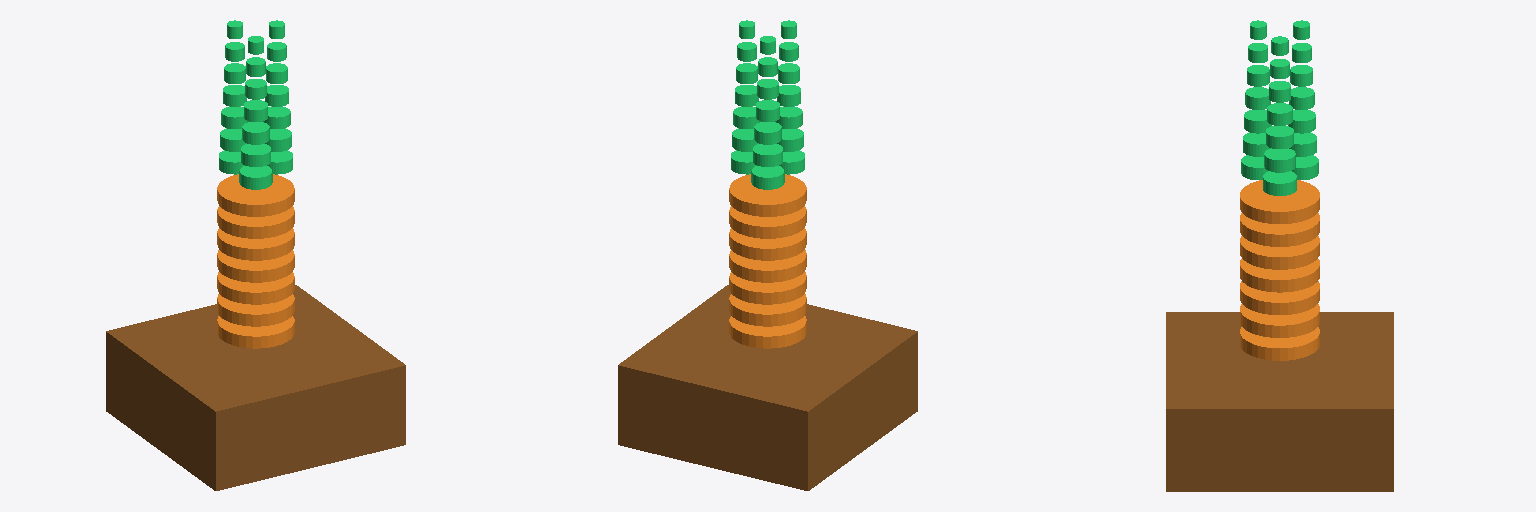
--- Facts derived from the render (not from the file) ---
3 views of the same robot in one strip: view 1: azimuth 30°, elevation 25°; view 2: azimuth 150°, elevation 25°; view 3: azimuth 270°, elevation 25° (orthographic).
Model gripper_robot with 69 links and 68 joints (35 revolute, 33 fixed), rooted at base_link, posed all joints at 0.
Links seen in each view (by area): view 1: base_link, seg7_mid_link, seg2_mid_link, seg4_mid_link, seg1_mid_link, seg5_mid_link, seg6_mid_link, seg3_mid_link, finger3_level1_disc, finger3_level2_disc, finger3_level3_disc; view 2: base_link, seg7_mid_link, seg2_mid_link, seg4_mid_link, seg1_mid_link, seg5_mid_link, seg6_mid_link, seg3_mid_link, finger2_level1_disc, finger2_level2_disc, finger2_level3_disc; view 3: base_link, seg7_mid_link, seg2_mid_link, seg6_mid_link, seg1_mid_link, seg5_mid_link, seg4_mid_link, seg3_mid_link, finger1_level1_disc, finger1_level2_disc, finger1_level3_disc, finger1_level4_disc (+2 smaller).
Boxes of the visible links, left/top/right/bottom form: base_link: left=106, top=285, right=405, bottom=490; seg7_mid_link: left=217, top=174, right=294, bottom=216; seg2_mid_link: left=217, top=294, right=294, bottom=326; seg4_mid_link: left=217, top=250, right=294, bottom=282; seg1_mid_link: left=217, top=316, right=294, bottom=348; seg5_mid_link: left=217, top=228, right=294, bottom=260; seg6_mid_link: left=217, top=206, right=294, bottom=238; seg3_mid_link: left=217, top=272, right=294, bottom=304; finger3_level1_disc: left=239, top=166, right=272, bottom=189; finger3_level2_disc: left=241, top=144, right=270, bottom=166; finger3_level3_disc: left=242, top=122, right=269, bottom=144; base_link: left=618, top=285, right=917, bottom=490; seg7_mid_link: left=729, top=174, right=806, bottom=216; seg2_mid_link: left=729, top=294, right=806, bottom=326; seg4_mid_link: left=729, top=250, right=806, bottom=282; seg1_mid_link: left=729, top=316, right=806, bottom=348; seg5_mid_link: left=729, top=228, right=806, bottom=260; seg6_mid_link: left=729, top=206, right=806, bottom=238; seg3_mid_link: left=729, top=272, right=806, bottom=304; finger2_level1_disc: left=751, top=166, right=784, bottom=189; finger2_level2_disc: left=753, top=144, right=782, bottom=166; finger2_level3_disc: left=754, top=122, right=781, bottom=144; base_link: left=1166, top=312, right=1393, bottom=491; seg7_mid_link: left=1240, top=180, right=1319, bottom=223; seg2_mid_link: left=1240, top=304, right=1319, bottom=337; seg6_mid_link: left=1240, top=213, right=1319, bottom=246; seg1_mid_link: left=1240, top=327, right=1319, bottom=360; seg5_mid_link: left=1240, top=236, right=1319, bottom=269; seg4_mid_link: left=1240, top=259, right=1319, bottom=292; seg3_mid_link: left=1240, top=281, right=1319, bottom=314; finger1_level1_disc: left=1263, top=171, right=1296, bottom=195; finger1_level2_disc: left=1264, top=148, right=1295, bottom=172; finger1_level3_disc: left=1266, top=126, right=1293, bottom=148; finger1_level4_disc: left=1267, top=103, right=1292, bottom=125.
Size in the robot's own frame: 0.2 by 0.2 by 0.4 metres.
Geometry: primitives only (box / cylinder / sphere), no mesh files.

robot.urdf — gripper_robot:
<?xml version="1.0" ?>
<!-- =================================================================================== -->
<!-- |    This document was autogenerated by xacro from gripper_robot.xacro            | -->
<!-- |    EDITING THIS FILE BY HAND IS NOT RECOMMENDED                                 | -->
<!-- =================================================================================== -->
<robot name="gripper_robot">
  <!-- 12mm disc thickness -->
  <!-- ~62% of disc radius = 22mm from center (between 25% and 100%) -->
  <!-- Base Link -->
  <link name="base_link">
    <visual>
      <origin rpy="0 0 0" xyz="0 0 0.04"/>
      <geometry>
        <box size="0.2 0.2 0.08"/>
      </geometry>
      <material name="brown">
        <color rgba="0.6 0.4 0.2 1.0"/>
      </material>
    </visual>
    <collision>
      <origin rpy="0 0 0" xyz="0 0 0.04"/>
      <geometry>
        <box size="0.2 0.2 0.08"/>
      </geometry>
    </collision>
    <inertial>
      <origin rpy="0 0 0" xyz="0 0 0.04"/>
      <mass value="2.0"/>
      <inertia ixx="0.01" ixy="0" ixz="0" iyy="0.01" iyz="0" izz="0.01"/>
    </inertial>
  </link>
  <joint name="base_to_seg1" type="fixed">
    <parent link="base_link"/>
    <child link="seg1_mount"/>
    <origin rpy="0 0 0" xyz="0 0 0.08"/>
  </joint>
  <link name="seg1_mount">
    <inertial>
      <mass value="0.01"/>
      <inertia ixx="0.00001" ixy="0" ixz="0" iyy="0.00001" iyz="0" izz="0.00001"/>
    </inertial>
  </link>
  <!-- Revolute Joint X (Roll) -->
  <joint name="seg1_joint_x" type="revolute">
    <parent link="seg1_mount"/>
    <child link="seg1_x_link"/>
    <origin rpy="0 0 0" xyz="0 0 0"/>
    <axis xyz="1 0 0"/>
    <limit effort="100" lower="-0.2094" upper="0.2094" velocity="1.0"/>
    <dynamics damping="0.7" friction="0.0"/>
  </joint>
  <link name="seg1_x_link">
    <inertial>
      <origin rpy="0 0 0" xyz="0 0 0"/>
      <mass value="0.01"/>
      <inertia ixx="0.00001" ixy="0" ixz="0" iyy="0.00001" iyz="0" izz="0.00001"/>
    </inertial>
  </link>
  <!-- Revolute Joint Y (Pitch) -->
  <joint name="seg1_joint_y" type="revolute">
    <parent link="seg1_x_link"/>
    <child link="seg1_y_link"/>
    <origin rpy="0 0 0" xyz="0 0 0"/>
    <axis xyz="0 1 0"/>
    <limit effort="100" lower="-0.2094" upper="0.2094" velocity="1.0"/>
    <dynamics damping="0.7" friction="0.0"/>
  </joint>
  <link name="seg1_y_link">
    <inertial>
      <origin rpy="0 0 0" xyz="0 0 0"/>
      <mass value="0.01"/>
      <inertia ixx="0.00001" ixy="0" ixz="0" iyy="0.00001" iyz="0" izz="0.00001"/>
    </inertial>
  </link>
  <!-- Fixed H distance joint -->
  <joint name="seg1_fixed_h" type="fixed">
    <parent link="seg1_y_link"/>
    <child link="seg1_mid_link"/>
    <origin rpy="0 0 0" xyz="0 0 0.022"/>
  </joint>
  <!-- Middle link with disc platform -->
  <link name="seg1_mid_link">
    <visual>
      <origin rpy="0 0 0" xyz="0 0 0"/>
      <geometry>
        <cylinder length="0.012" radius="0.0352"/>
      </geometry>
      <material name="disc_1">
        <color rgba="1.0 0.6 0.2 1.0"/>
      </material>
    </visual>
    <collision>
      <origin rpy="0 0 0" xyz="0 0 0"/>
      <geometry>
        <cylinder length="0.012" radius="0.0352"/>
      </geometry>
    </collision>
    <inertial>
      <origin rpy="0 0 0" xyz="0 0 0"/>
      <mass value="0.5"/>
      <inertia ixx="0.002" ixy="0" ixz="0" iyy="0.002" iyz="0" izz="0.003"/>
    </inertial>
  </link>
  <!-- Revolute Joint X (Roll) -->
  <joint name="seg2_joint_x" type="revolute">
    <parent link="seg1_mid_link"/>
    <child link="seg2_x_link"/>
    <origin rpy="0 0 0" xyz="0 0 0"/>
    <axis xyz="1 0 0"/>
    <limit effort="100" lower="-0.2094" upper="0.2094" velocity="1.0"/>
    <mimic joint="seg1_joint_x" multiplier="1.0" offset="0.0"/>
    <dynamics damping="0.1" friction="0.0"/>
  </joint>
  <link name="seg2_x_link">
    <inertial>
      <origin rpy="0 0 0" xyz="0 0 0"/>
      <mass value="0.01"/>
      <inertia ixx="0.00001" ixy="0" ixz="0" iyy="0.00001" iyz="0" izz="0.00001"/>
    </inertial>
  </link>
  <!-- Revolute Joint Y (Pitch) -->
  <joint name="seg2_joint_y" type="revolute">
    <parent link="seg2_x_link"/>
    <child link="seg2_y_link"/>
    <origin rpy="0 0 0" xyz="0 0 0"/>
    <axis xyz="0 1 0"/>
    <limit effort="100" lower="-0.2094" upper="0.2094" velocity="1.0"/>
    <mimic joint="seg1_joint_y" multiplier="1.0" offset="0.0"/>
    <dynamics damping="0.1" friction="0.0"/>
  </joint>
  <link name="seg2_y_link">
    <inertial>
      <origin rpy="0 0 0" xyz="0 0 0"/>
      <mass value="0.01"/>
      <inertia ixx="0.00001" ixy="0" ixz="0" iyy="0.00001" iyz="0" izz="0.00001"/>
    </inertial>
  </link>
  <!-- Fixed H distance joint -->
  <joint name="seg2_fixed_h" type="fixed">
    <parent link="seg2_y_link"/>
    <child link="seg2_mid_link"/>
    <origin rpy="0 0 0" xyz="0 0 0.022"/>
  </joint>
  <!-- Middle link with disc platform -->
  <link name="seg2_mid_link">
    <visual>
      <origin rpy="0 0 0" xyz="0 0 0"/>
      <geometry>
        <cylinder length="0.012" radius="0.0352"/>
      </geometry>
      <material name="disc_2">
        <color rgba="1.0 0.6 0.2 1.0"/>
      </material>
    </visual>
    <collision>
      <origin rpy="0 0 0" xyz="0 0 0"/>
      <geometry>
        <cylinder length="0.012" radius="0.0352"/>
      </geometry>
    </collision>
    <inertial>
      <origin rpy="0 0 0" xyz="0 0 0"/>
      <mass value="0.5"/>
      <inertia ixx="0.002" ixy="0" ixz="0" iyy="0.002" iyz="0" izz="0.003"/>
    </inertial>
  </link>
  <!-- Revolute Joint X (Roll) -->
  <joint name="seg3_joint_x" type="revolute">
    <parent link="seg2_mid_link"/>
    <child link="seg3_x_link"/>
    <origin rpy="0 0 0" xyz="0 0 0"/>
    <axis xyz="1 0 0"/>
    <limit effort="100" lower="-0.2094" upper="0.2094" velocity="1.0"/>
    <mimic joint="seg1_joint_x" multiplier="1.0" offset="0.0"/>
    <dynamics damping="0.1" friction="0.0"/>
  </joint>
  <link name="seg3_x_link">
    <inertial>
      <origin rpy="0 0 0" xyz="0 0 0"/>
      <mass value="0.01"/>
      <inertia ixx="0.00001" ixy="0" ixz="0" iyy="0.00001" iyz="0" izz="0.00001"/>
    </inertial>
  </link>
  <!-- Revolute Joint Y (Pitch) -->
  <joint name="seg3_joint_y" type="revolute">
    <parent link="seg3_x_link"/>
    <child link="seg3_y_link"/>
    <origin rpy="0 0 0" xyz="0 0 0"/>
    <axis xyz="0 1 0"/>
    <limit effort="100" lower="-0.2094" upper="0.2094" velocity="1.0"/>
    <mimic joint="seg1_joint_y" multiplier="1.0" offset="0.0"/>
    <dynamics damping="0.1" friction="0.0"/>
  </joint>
  <link name="seg3_y_link">
    <inertial>
      <origin rpy="0 0 0" xyz="0 0 0"/>
      <mass value="0.01"/>
      <inertia ixx="0.00001" ixy="0" ixz="0" iyy="0.00001" iyz="0" izz="0.00001"/>
    </inertial>
  </link>
  <!-- Fixed H distance joint -->
  <joint name="seg3_fixed_h" type="fixed">
    <parent link="seg3_y_link"/>
    <child link="seg3_mid_link"/>
    <origin rpy="0 0 0" xyz="0 0 0.022"/>
  </joint>
  <!-- Middle link with disc platform -->
  <link name="seg3_mid_link">
    <visual>
      <origin rpy="0 0 0" xyz="0 0 0"/>
      <geometry>
        <cylinder length="0.012" radius="0.0352"/>
      </geometry>
      <material name="disc_3">
        <color rgba="1.0 0.6 0.2 1.0"/>
      </material>
    </visual>
    <collision>
      <origin rpy="0 0 0" xyz="0 0 0"/>
      <geometry>
        <cylinder length="0.012" radius="0.0352"/>
      </geometry>
    </collision>
    <inertial>
      <origin rpy="0 0 0" xyz="0 0 0"/>
      <mass value="0.5"/>
      <inertia ixx="0.002" ixy="0" ixz="0" iyy="0.002" iyz="0" izz="0.003"/>
    </inertial>
  </link>
  <!-- Revolute Joint X (Roll) -->
  <joint name="seg4_joint_x" type="revolute">
    <parent link="seg3_mid_link"/>
    <child link="seg4_x_link"/>
    <origin rpy="0 0 0" xyz="0 0 0"/>
    <axis xyz="1 0 0"/>
    <limit effort="100" lower="-0.2094" upper="0.2094" velocity="1.0"/>
    <mimic joint="seg1_joint_x" multiplier="1.0" offset="0.0"/>
    <dynamics damping="0.1" friction="0.0"/>
  </joint>
  <link name="seg4_x_link">
    <inertial>
      <origin rpy="0 0 0" xyz="0 0 0"/>
      <mass value="0.01"/>
      <inertia ixx="0.00001" ixy="0" ixz="0" iyy="0.00001" iyz="0" izz="0.00001"/>
    </inertial>
  </link>
  <!-- Revolute Joint Y (Pitch) -->
  <joint name="seg4_joint_y" type="revolute">
    <parent link="seg4_x_link"/>
    <child link="seg4_y_link"/>
    <origin rpy="0 0 0" xyz="0 0 0"/>
    <axis xyz="0 1 0"/>
    <limit effort="100" lower="-0.2094" upper="0.2094" velocity="1.0"/>
    <mimic joint="seg1_joint_y" multiplier="1.0" offset="0.0"/>
    <dynamics damping="0.1" friction="0.0"/>
  </joint>
  <link name="seg4_y_link">
    <inertial>
      <origin rpy="0 0 0" xyz="0 0 0"/>
      <mass value="0.01"/>
      <inertia ixx="0.00001" ixy="0" ixz="0" iyy="0.00001" iyz="0" izz="0.00001"/>
    </inertial>
  </link>
  <!-- Fixed H distance joint -->
  <joint name="seg4_fixed_h" type="fixed">
    <parent link="seg4_y_link"/>
    <child link="seg4_mid_link"/>
    <origin rpy="0 0 0" xyz="0 0 0.022"/>
  </joint>
  <!-- Middle link with disc platform -->
  <link name="seg4_mid_link">
    <visual>
      <origin rpy="0 0 0" xyz="0 0 0"/>
      <geometry>
        <cylinder length="0.012" radius="0.0352"/>
      </geometry>
      <material name="disc_4">
        <color rgba="1.0 0.6 0.2 1.0"/>
      </material>
    </visual>
    <collision>
      <origin rpy="0 0 0" xyz="0 0 0"/>
      <geometry>
        <cylinder length="0.012" radius="0.0352"/>
      </geometry>
    </collision>
    <inertial>
      <origin rpy="0 0 0" xyz="0 0 0"/>
      <mass value="0.5"/>
      <inertia ixx="0.002" ixy="0" ixz="0" iyy="0.002" iyz="0" izz="0.003"/>
    </inertial>
  </link>
  <!-- Revolute Joint X (Roll) -->
  <joint name="seg5_joint_x" type="revolute">
    <parent link="seg4_mid_link"/>
    <child link="seg5_x_link"/>
    <origin rpy="0 0 0" xyz="0 0 0"/>
    <axis xyz="1 0 0"/>
    <limit effort="100" lower="-0.2094" upper="0.2094" velocity="1.0"/>
    <mimic joint="seg1_joint_x" multiplier="1.0" offset="0.0"/>
    <dynamics damping="0.1" friction="0.0"/>
  </joint>
  <link name="seg5_x_link">
    <inertial>
      <origin rpy="0 0 0" xyz="0 0 0"/>
      <mass value="0.01"/>
      <inertia ixx="0.00001" ixy="0" ixz="0" iyy="0.00001" iyz="0" izz="0.00001"/>
    </inertial>
  </link>
  <!-- Revolute Joint Y (Pitch) -->
  <joint name="seg5_joint_y" type="revolute">
    <parent link="seg5_x_link"/>
    <child link="seg5_y_link"/>
    <origin rpy="0 0 0" xyz="0 0 0"/>
    <axis xyz="0 1 0"/>
    <limit effort="100" lower="-0.2094" upper="0.2094" velocity="1.0"/>
    <mimic joint="seg1_joint_y" multiplier="1.0" offset="0.0"/>
    <dynamics damping="0.1" friction="0.0"/>
  </joint>
  <link name="seg5_y_link">
    <inertial>
      <origin rpy="0 0 0" xyz="0 0 0"/>
      <mass value="0.01"/>
      <inertia ixx="0.00001" ixy="0" ixz="0" iyy="0.00001" iyz="0" izz="0.00001"/>
    </inertial>
  </link>
  <!-- Fixed H distance joint -->
  <joint name="seg5_fixed_h" type="fixed">
    <parent link="seg5_y_link"/>
    <child link="seg5_mid_link"/>
    <origin rpy="0 0 0" xyz="0 0 0.022"/>
  </joint>
  <!-- Middle link with disc platform -->
  <link name="seg5_mid_link">
    <visual>
      <origin rpy="0 0 0" xyz="0 0 0"/>
      <geometry>
        <cylinder length="0.012" radius="0.0352"/>
      </geometry>
      <material name="disc_5">
        <color rgba="1.0 0.6 0.2 1.0"/>
      </material>
    </visual>
    <collision>
      <origin rpy="0 0 0" xyz="0 0 0"/>
      <geometry>
        <cylinder length="0.012" radius="0.0352"/>
      </geometry>
    </collision>
    <inertial>
      <origin rpy="0 0 0" xyz="0 0 0"/>
      <mass value="0.5"/>
      <inertia ixx="0.002" ixy="0" ixz="0" iyy="0.002" iyz="0" izz="0.003"/>
    </inertial>
  </link>
  <!-- Revolute Joint X (Roll) -->
  <joint name="seg6_joint_x" type="revolute">
    <parent link="seg5_mid_link"/>
    <child link="seg6_x_link"/>
    <origin rpy="0 0 0" xyz="0 0 0"/>
    <axis xyz="1 0 0"/>
    <limit effort="100" lower="-0.2094" upper="0.2094" velocity="1.0"/>
    <mimic joint="seg1_joint_x" multiplier="1.0" offset="0.0"/>
    <dynamics damping="0.1" friction="0.0"/>
  </joint>
  <link name="seg6_x_link">
    <inertial>
      <origin rpy="0 0 0" xyz="0 0 0"/>
      <mass value="0.01"/>
      <inertia ixx="0.00001" ixy="0" ixz="0" iyy="0.00001" iyz="0" izz="0.00001"/>
    </inertial>
  </link>
  <!-- Revolute Joint Y (Pitch) -->
  <joint name="seg6_joint_y" type="revolute">
    <parent link="seg6_x_link"/>
    <child link="seg6_y_link"/>
    <origin rpy="0 0 0" xyz="0 0 0"/>
    <axis xyz="0 1 0"/>
    <limit effort="100" lower="-0.2094" upper="0.2094" velocity="1.0"/>
    <mimic joint="seg1_joint_y" multiplier="1.0" offset="0.0"/>
    <dynamics damping="0.1" friction="0.0"/>
  </joint>
  <link name="seg6_y_link">
    <inertial>
      <origin rpy="0 0 0" xyz="0 0 0"/>
      <mass value="0.01"/>
      <inertia ixx="0.00001" ixy="0" ixz="0" iyy="0.00001" iyz="0" izz="0.00001"/>
    </inertial>
  </link>
  <!-- Fixed H distance joint -->
  <joint name="seg6_fixed_h" type="fixed">
    <parent link="seg6_y_link"/>
    <child link="seg6_mid_link"/>
    <origin rpy="0 0 0" xyz="0 0 0.022"/>
  </joint>
  <!-- Middle link with disc platform -->
  <link name="seg6_mid_link">
    <visual>
      <origin rpy="0 0 0" xyz="0 0 0"/>
      <geometry>
        <cylinder length="0.012" radius="0.0352"/>
      </geometry>
      <material name="disc_6">
        <color rgba="1.0 0.6 0.2 1.0"/>
      </material>
    </visual>
    <collision>
      <origin rpy="0 0 0" xyz="0 0 0"/>
      <geometry>
        <cylinder length="0.012" radius="0.0352"/>
      </geometry>
    </collision>
    <inertial>
      <origin rpy="0 0 0" xyz="0 0 0"/>
      <mass value="0.5"/>
      <inertia ixx="0.002" ixy="0" ixz="0" iyy="0.002" iyz="0" izz="0.003"/>
    </inertial>
  </link>
  <!-- Revolute Joint X (Roll) -->
  <joint name="seg7_joint_x" type="revolute">
    <parent link="seg6_mid_link"/>
    <child link="seg7_x_link"/>
    <origin rpy="0 0 0" xyz="0 0 0"/>
    <axis xyz="1 0 0"/>
    <limit effort="100" lower="-0.2094" upper="0.2094" velocity="1.0"/>
    <mimic joint="seg1_joint_x" multiplier="1.0" offset="0.0"/>
    <dynamics damping="0.1" friction="0.0"/>
  </joint>
  <link name="seg7_x_link">
    <inertial>
      <origin rpy="0 0 0" xyz="0 0 0"/>
      <mass value="0.01"/>
      <inertia ixx="0.00001" ixy="0" ixz="0" iyy="0.00001" iyz="0" izz="0.00001"/>
    </inertial>
  </link>
  <!-- Revolute Joint Y (Pitch) -->
  <joint name="seg7_joint_y" type="revolute">
    <parent link="seg7_x_link"/>
    <child link="seg7_y_link"/>
    <origin rpy="0 0 0" xyz="0 0 0"/>
    <axis xyz="0 1 0"/>
    <limit effort="100" lower="-0.2094" upper="0.2094" velocity="1.0"/>
    <mimic joint="seg1_joint_y" multiplier="1.0" offset="0.0"/>
    <dynamics damping="0.1" friction="0.0"/>
  </joint>
  <link name="seg7_y_link">
    <inertial>
      <origin rpy="0 0 0" xyz="0 0 0"/>
      <mass value="0.01"/>
      <inertia ixx="0.00001" ixy="0" ixz="0" iyy="0.00001" iyz="0" izz="0.00001"/>
    </inertial>
  </link>
  <!-- Fixed H distance joint -->
  <joint name="seg7_fixed_h" type="fixed">
    <parent link="seg7_y_link"/>
    <child link="seg7_mid_link"/>
    <origin rpy="0 0 0" xyz="0 0 0.022"/>
  </joint>
  <!-- Middle link with disc platform -->
  <link name="seg7_mid_link">
    <visual>
      <origin rpy="0 0 0" xyz="0 0 0"/>
      <geometry>
        <cylinder length="0.012" radius="0.0352"/>
      </geometry>
      <material name="disc_7">
        <color rgba="1.0 0.6 0.2 1.0"/>
      </material>
    </visual>
    <collision>
      <origin rpy="0 0 0" xyz="0 0 0"/>
      <geometry>
        <cylinder length="0.012" radius="0.0352"/>
      </geometry>
    </collision>
    <inertial>
      <origin rpy="0 0 0" xyz="0 0 0"/>
      <mass value="0.5"/>
      <inertia ixx="0.002" ixy="0" ixz="0" iyy="0.002" iyz="0" izz="0.003"/>
    </inertial>
  </link>
  <!-- ===== GRIPPER BASE (on top of seg7) ===== -->
  <joint name="gripper_base_joint" type="fixed">
    <parent link="seg7_mid_link"/>
    <child link="gripper_base"/>
    <origin rpy="0 0 0" xyz="0 0 0.006"/>
  </joint>
  <link name="gripper_base">
    <inertial>
      <mass value="0.1"/>
      <inertia ixx="0.0001" ixy="0" ixz="0" iyy="0.0001" iyz="0" izz="0.0001"/>
    </inertial>
  </link>
  <!-- ===== FINGER 1 (at 0°) ===== -->
  <joint name="finger1_mount" type="fixed">
    <parent link="gripper_base"/>
    <child link="finger1_base"/>
    <origin rpy="0 0 0" xyz="0.022 0 0"/>
  </joint>
  <link name="finger1_base">
    <inertial>
      <mass value="0.01"/>
      <inertia ixx="0.00001" ixy="0" ixz="0" iyy="0.00001" iyz="0" izz="0.00001"/>
    </inertial>
  </link>
  <!-- Revolute Joint (opens/closes) -->
  <joint name="finger1_level1_joint" type="revolute">
    <parent link="finger1_base"/>
    <child link="finger1_level1_link"/>
    <origin rpy="0 0 0" xyz="0 0 0"/>
    <axis xyz="0 1 0"/>
    <limit effort="50" lower="0" upper="0.2094" velocity="1.0"/>
    <dynamics damping="0.5" friction="0.0"/>
  </joint>
  <link name="finger1_level1_link">
    <inertial>
      <origin rpy="0 0 0" xyz="0 0 0"/>
      <mass value="0.01"/>
      <inertia ixx="0.00001" ixy="0" ixz="0" iyy="0.00001" iyz="0" izz="0.00001"/>
    </inertial>
  </link>
  <!-- Fixed H distance to disc -->
  <joint name="finger1_level1_fixed" type="fixed">
    <parent link="finger1_level1_link"/>
    <child link="finger1_level1_disc"/>
    <origin rpy="0 0 0" xyz="0 0 0.022"/>
  </joint>
  <!-- Disc -->
  <link name="finger1_level1_disc">
    <visual>
      <origin rpy="0 0 0" xyz="0 0 0"/>
      <geometry>
        <cylinder length="0.012" radius="0.015"/>
      </geometry>
      <material name="finger1_mat">
        <color rgba="0.2 0.9 0.5 1.0"/>
      </material>
    </visual>
    <collision>
      <origin rpy="0 0 0" xyz="0 0 0"/>
      <geometry>
        <cylinder length="0.012" radius="0.015"/>
      </geometry>
    </collision>
    <inertial>
      <origin rpy="0 0 0" xyz="0 0 0"/>
      <mass value="0.1"/>
      <inertia ixx="0.0001" ixy="0" ixz="0" iyy="0.0001" iyz="0" izz="0.0001"/>
    </inertial>
  </link>
  <!-- Revolute Joint (opens/closes) -->
  <joint name="finger1_level2_joint" type="revolute">
    <parent link="finger1_level1_disc"/>
    <child link="finger1_level2_link"/>
    <origin rpy="0 0 0" xyz="0 0 0"/>
    <axis xyz="0 1 0"/>
    <limit effort="50" lower="0" upper="0.2094" velocity="1.0"/>
    <mimic joint="finger1_level1_joint" multiplier="1.0" offset="0.0"/>
    <dynamics damping="0.1" friction="0.0"/>
  </joint>
  <link name="finger1_level2_link">
    <inertial>
      <origin rpy="0 0 0" xyz="0 0 0"/>
      <mass value="0.01"/>
      <inertia ixx="0.00001" ixy="0" ixz="0" iyy="0.00001" iyz="0" izz="0.00001"/>
    </inertial>
  </link>
  <!-- Fixed H distance to disc -->
  <joint name="finger1_level2_fixed" type="fixed">
    <parent link="finger1_level2_link"/>
    <child link="finger1_level2_disc"/>
    <origin rpy="0 0 0" xyz="0 0 0.022"/>
  </joint>
  <!-- Disc -->
  <link name="finger1_level2_disc">
    <visual>
      <origin rpy="0 0 0" xyz="0 0 0"/>
      <geometry>
        <cylinder length="0.012" radius="0.01375"/>
      </geometry>
      <material name="finger1_mat">
        <color rgba="0.2 0.9 0.5 1.0"/>
      </material>
    </visual>
    <collision>
      <origin rpy="0 0 0" xyz="0 0 0"/>
      <geometry>
        <cylinder length="0.012" radius="0.01375"/>
      </geometry>
    </collision>
    <inertial>
      <origin rpy="0 0 0" xyz="0 0 0"/>
      <mass value="0.1"/>
      <inertia ixx="0.0001" ixy="0" ixz="0" iyy="0.0001" iyz="0" izz="0.0001"/>
    </inertial>
  </link>
  <!-- Revolute Joint (opens/closes) -->
  <joint name="finger1_level3_joint" type="revolute">
    <parent link="finger1_level2_disc"/>
    <child link="finger1_level3_link"/>
    <origin rpy="0 0 0" xyz="0 0 0"/>
    <axis xyz="0 1 0"/>
    <limit effort="50" lower="0" upper="0.2094" velocity="1.0"/>
    <mimic joint="finger1_level1_joint" multiplier="1.0" offset="0.0"/>
    <dynamics damping="0.1" friction="0.0"/>
  </joint>
  <link name="finger1_level3_link">
    <inertial>
      <origin rpy="0 0 0" xyz="0 0 0"/>
      <mass value="0.01"/>
      <inertia ixx="0.00001" ixy="0" ixz="0" iyy="0.00001" iyz="0" izz="0.00001"/>
    </inertial>
  </link>
  <!-- Fixed H distance to disc -->
  <joint name="finger1_level3_fixed" type="fixed">
    <parent link="finger1_level3_link"/>
    <child link="finger1_level3_disc"/>
    <origin rpy="0 0 0" xyz="0 0 0.022"/>
  </joint>
  <!-- Disc -->
  <link name="finger1_level3_disc">
    <visual>
      <origin rpy="0 0 0" xyz="0 0 0"/>
      <geometry>
        <cylinder length="0.012" radius="0.012499999999999999"/>
      </geometry>
      <material name="finger1_mat">
        <color rgba="0.2 0.9 0.5 1.0"/>
      </material>
    </visual>
    <collision>
      <origin rpy="0 0 0" xyz="0 0 0"/>
      <geometry>
        <cylinder length="0.012" radius="0.012499999999999999"/>
      </geometry>
    </collision>
    <inertial>
      <origin rpy="0 0 0" xyz="0 0 0"/>
      <mass value="0.1"/>
      <inertia ixx="0.0001" ixy="0" ixz="0" iyy="0.0001" iyz="0" izz="0.0001"/>
    </inertial>
  </link>
  <!-- Revolute Joint (opens/closes) -->
  <joint name="finger1_level4_joint" type="revolute">
    <parent link="finger1_level3_disc"/>
    <child link="finger1_level4_link"/>
    <origin rpy="0 0 0" xyz="0 0 0"/>
    <axis xyz="0 1 0"/>
    <limit effort="50" lower="0" upper="0.2094" velocity="1.0"/>
    <mimic joint="finger1_level1_joint" multiplier="1.0" offset="0.0"/>
    <dynamics damping="0.1" friction="0.0"/>
  </joint>
  <link name="finger1_level4_link">
    <inertial>
      <origin rpy="0 0 0" xyz="0 0 0"/>
      <mass value="0.01"/>
      <inertia ixx="0.00001" ixy="0" ixz="0" iyy="0.00001" iyz="0" izz="0.00001"/>
    </inertial>
  </link>
  <!-- Fixed H distance to disc -->
  <joint name="finger1_level4_fixed" type="fixed">
    <parent link="finger1_level4_link"/>
    <child link="finger1_level4_disc"/>
    <origin rpy="0 0 0" xyz="0 0 0.022"/>
  </joint>
  <!-- Disc -->
  <link name="finger1_level4_disc">
    <visual>
      <origin rpy="0 0 0" xyz="0 0 0"/>
      <geometry>
        <cylinder length="0.012" radius="0.01125"/>
      </geometry>
      <material name="finger1_mat">
        <color rgba="0.2 0.9 0.5 1.0"/>
      </material>
    </visual>
    <collision>
      <origin rpy="0 0 0" xyz="0 0 0"/>
      <geometry>
        <cylinder length="0.012" radius="0.01125"/>
      </geometry>
    </collision>
    <inertial>
      <origin rpy="0 0 0" xyz="0 0 0"/>
      <mass value="0.1"/>
      <inertia ixx="0.0001" ixy="0" ixz="0" iyy="0.0001" iyz="0" izz="0.0001"/>
    </inertial>
  </link>
  <!-- Revolute Joint (opens/closes) -->
  <joint name="finger1_level5_joint" type="revolute">
    <parent link="finger1_level4_disc"/>
    <child link="finger1_level5_link"/>
    <origin rpy="0 0 0" xyz="0 0 0"/>
    <axis xyz="0 1 0"/>
    <limit effort="50" lower="0" upper="0.2094" velocity="1.0"/>
    <mimic joint="finger1_level1_joint" multiplier="1.0" offset="0.0"/>
    <dynamics damping="0.1" friction="0.0"/>
  </joint>
  <link name="finger1_level5_link">
    <inertial>
      <origin rpy="0 0 0" xyz="0 0 0"/>
      <mass value="0.01"/>
      <inertia ixx="0.00001" ixy="0" ixz="0" iyy="0.00001" iyz="0" izz="0.00001"/>
    </inertial>
  </link>
  <!-- Fixed H distance to disc -->
  <joint name="finger1_level5_fixed" type="fixed">
    <parent link="finger1_level5_link"/>
    <child link="finger1_level5_disc"/>
    <origin rpy="0 0 0" xyz="0 0 0.022"/>
  </joint>
  <!-- Disc -->
  <link name="finger1_level5_disc">
    <visual>
      <origin rpy="0 0 0" xyz="0 0 0"/>
      <geometry>
        <cylinder length="0.012" radius="0.009999999999999998"/>
      </geometry>
      <material name="finger1_mat">
        <color rgba="0.2 0.9 0.5 1.0"/>
      </material>
    </visual>
    <collision>
      <origin rpy="0 0 0" xyz="0 0 0"/>
      <geometry>
        <cylinder length="0.012" radius="0.009999999999999998"/>
      </geometry>
    </collision>
    <inertial>
      <origin rpy="0 0 0" xyz="0 0 0"/>
      <mass value="0.1"/>
      <inertia ixx="0.0001" ixy="0" ixz="0" iyy="0.0001" iyz="0" izz="0.0001"/>
    </inertial>
  </link>
  <!-- Revolute Joint (opens/closes) -->
  <joint name="finger1_level6_joint" type="revolute">
    <parent link="finger1_level5_disc"/>
    <child link="finger1_level6_link"/>
    <origin rpy="0 0 0" xyz="0 0 0"/>
    <axis xyz="0 1 0"/>
    <limit effort="50" lower="0" upper="0.2094" velocity="1.0"/>
    <mimic joint="finger1_level1_joint" multiplier="1.0" offset="0.0"/>
    <dynamics damping="0.1" friction="0.0"/>
  </joint>
  <link name="finger1_level6_link">
    <inertial>
      <origin rpy="0 0 0" xyz="0 0 0"/>
      <mass value="0.01"/>
      <inertia ixx="0.00001" ixy="0" ixz="0" iyy="0.00001" iyz="0" izz="0.00001"/>
    </inertial>
  </link>
  <!-- Fixed H distance to disc -->
  <joint name="finger1_level6_fixed" type="fixed">
    <parent link="finger1_level6_link"/>
    <child link="finger1_level6_disc"/>
    <origin rpy="0 0 0" xyz="0 0 0.022"/>
  </joint>
  <!-- Disc -->
  <link name="finger1_level6_disc">
    <visual>
      <origin rpy="0 0 0" xyz="0 0 0"/>
      <geometry>
        <cylinder length="0.012" radius="0.00875"/>
      </geometry>
      <material name="finger1_mat">
        <color rgba="0.2 0.9 0.5 1.0"/>
      </material>
    </visual>
    <collision>
      <origin rpy="0 0 0" xyz="0 0 0"/>
      <geometry>
        <cylinder length="0.012" radius="0.00875"/>
      </geometry>
    </collision>
    <inertial>
      <origin rpy="0 0 0" xyz="0 0 0"/>
      <mass value="0.1"/>
      <inertia ixx="0.0001" ixy="0" ixz="0" iyy="0.0001" iyz="0" izz="0.0001"/>
    </inertial>
  </link>
  <!-- Revolute Joint (opens/closes) -->
  <joint name="finger1_level7_joint" type="revolute">
    <parent link="finger1_level6_disc"/>
    <child link="finger1_level7_link"/>
    <origin rpy="0 0 0" xyz="0 0 0"/>
    <axis xyz="0 1 0"/>
    <limit effort="50" lower="0" upper="0.2094" velocity="1.0"/>
    <mimic joint="finger1_level1_joint" multiplier="1.0" offset="0.0"/>
    <dynamics damping="0.1" friction="0.0"/>
  </joint>
  <link name="finger1_level7_link">
    <inertial>
      <origin rpy="0 0 0" xyz="0 0 0"/>
      <mass value="0.01"/>
      <inertia ixx="0.00001" ixy="0" ixz="0" iyy="0.00001" iyz="0" izz="0.00001"/>
    </inertial>
  </link>
  <!-- Fixed H distance to disc -->
  <joint name="finger1_level7_fixed" type="fixed">
    <parent link="finger1_level7_link"/>
    <child link="finger1_level7_disc"/>
    <origin rpy="0 0 0" xyz="0 0 0.022"/>
  </joint>
  <!-- Disc -->
  <link name="finger1_level7_disc">
    <visual>
      <origin rpy="0 0 0" xyz="0 0 0"/>
      <geometry>
        <cylinder length="0.012" radius="0.0075"/>
      </geometry>
      <material name="finger1_mat">
        <color rgba="0.2 0.9 0.5 1.0"/>
      </material>
    </visual>
    <collision>
      <origin rpy="0 0 0" xyz="0 0 0"/>
      <geometry>
        <cylinder length="0.012" radius="0.0075"/>
      </geometry>
    </collision>
    <inertial>
      <origin rpy="0 0 0" xyz="0 0 0"/>
      <mass value="0.1"/>
      <inertia ixx="0.0001" ixy="0" ixz="0" iyy="0.0001" iyz="0" izz="0.0001"/>
    </inertial>
  </link>
  <!-- ===== FINGER 2 (at 120°) ===== -->
  <joint name="finger2_mount" type="fixed">
    <parent link="gripper_base"/>
    <child link="finger2_base"/>
    <origin rpy="0 0 2.0944" xyz="-0.0110000933118101 0.0190525050093543 0"/>
  </joint>
  <link name="finger2_base">
    <inertial>
      <mass value="0.01"/>
      <inertia ixx="0.00001" ixy="0" ixz="0" iyy="0.00001" iyz="0" izz="0.00001"/>
    </inertial>
  </link>
  <!-- Revolute Joint (opens/closes) -->
  <joint name="finger2_level1_joint" type="revolute">
    <parent link="finger2_base"/>
    <child link="finger2_level1_link"/>
    <origin rpy="0 0 0" xyz="0 0 0"/>
    <axis xyz="0 1 0"/>
    <limit effort="50" lower="0" upper="0.2094" velocity="1.0"/>
    <mimic joint="finger1_level1_joint" multiplier="1.0" offset="0.0"/>
    <dynamics damping="0.1" friction="0.0"/>
  </joint>
  <link name="finger2_level1_link">
    <inertial>
      <origin rpy="0 0 0" xyz="0 0 0"/>
      <mass value="0.01"/>
      <inertia ixx="0.00001" ixy="0" ixz="0" iyy="0.00001" iyz="0" izz="0.00001"/>
    </inertial>
  </link>
  <!-- Fixed H distance to disc -->
  <joint name="finger2_level1_fixed" type="fixed">
    <parent link="finger2_level1_link"/>
    <child link="finger2_level1_disc"/>
    <origin rpy="0 0 0" xyz="0 0 0.022"/>
  </joint>
  <!-- Disc -->
  <link name="finger2_level1_disc">
    <visual>
      <origin rpy="0 0 0" xyz="0 0 0"/>
      <geometry>
        <cylinder length="0.012" radius="0.015"/>
      </geometry>
      <material name="finger2_mat">
        <color rgba="0.2 0.9 0.5 1.0"/>
      </material>
    </visual>
    <collision>
      <origin rpy="0 0 0" xyz="0 0 0"/>
      <geometry>
        <cylinder length="0.012" radius="0.015"/>
      </geometry>
    </collision>
    <inertial>
      <origin rpy="0 0 0" xyz="0 0 0"/>
      <mass value="0.1"/>
      <inertia ixx="0.0001" ixy="0" ixz="0" iyy="0.0001" iyz="0" izz="0.0001"/>
    </inertial>
  </link>
  <!-- Revolute Joint (opens/closes) -->
  <joint name="finger2_level2_joint" type="revolute">
    <parent link="finger2_level1_disc"/>
    <child link="finger2_level2_link"/>
    <origin rpy="0 0 0" xyz="0 0 0"/>
    <axis xyz="0 1 0"/>
    <limit effort="50" lower="0" upper="0.2094" velocity="1.0"/>
    <mimic joint="finger1_level1_joint" multiplier="1.0" offset="0.0"/>
    <dynamics damping="0.1" friction="0.0"/>
  </joint>
  <link name="finger2_level2_link">
    <inertial>
      <origin rpy="0 0 0" xyz="0 0 0"/>
      <mass value="0.01"/>
      <inertia ixx="0.00001" ixy="0" ixz="0" iyy="0.00001" iyz="0" izz="0.00001"/>
    </inertial>
  </link>
  <!-- Fixed H distance to disc -->
  <joint name="finger2_level2_fixed" type="fixed">
    <parent link="finger2_level2_link"/>
    <child link="finger2_level2_disc"/>
    <origin rpy="0 0 0" xyz="0 0 0.022"/>
  </joint>
  <!-- Disc -->
  <link name="finger2_level2_disc">
    <visual>
      <origin rpy="0 0 0" xyz="0 0 0"/>
      <geometry>
        <cylinder length="0.012" radius="0.01375"/>
      </geometry>
      <material name="finger2_mat">
        <color rgba="0.2 0.9 0.5 1.0"/>
      </material>
    </visual>
    <collision>
      <origin rpy="0 0 0" xyz="0 0 0"/>
      <geometry>
        <cylinder length="0.012" radius="0.01375"/>
      </geometry>
    </collision>
    <inertial>
      <origin rpy="0 0 0" xyz="0 0 0"/>
      <mass value="0.1"/>
      <inertia ixx="0.0001" ixy="0" ixz="0" iyy="0.0001" iyz="0" izz="0.0001"/>
    </inertial>
  </link>
  <!-- Revolute Joint (opens/closes) -->
  <joint name="finger2_level3_joint" type="revolute">
    <parent link="finger2_level2_disc"/>
    <child link="finger2_level3_link"/>
    <origin rpy="0 0 0" xyz="0 0 0"/>
    <axis xyz="0 1 0"/>
    <limit effort="50" lower="0" upper="0.2094" velocity="1.0"/>
    <mimic joint="finger1_level1_joint" multiplier="1.0" offset="0.0"/>
    <dynamics damping="0.1" friction="0.0"/>
  </joint>
  <link name="finger2_level3_link">
    <inertial>
      <origin rpy="0 0 0" xyz="0 0 0"/>
      <mass value="0.01"/>
      <inertia ixx="0.00001" ixy="0" ixz="0" iyy="0.00001" iyz="0" izz="0.00001"/>
    </inertial>
  </link>
  <!-- Fixed H distance to disc -->
  <joint name="finger2_level3_fixed" type="fixed">
    <parent link="finger2_level3_link"/>
    <child link="finger2_level3_disc"/>
    <origin rpy="0 0 0" xyz="0 0 0.022"/>
  </joint>
  <!-- Disc -->
  <link name="finger2_level3_disc">
    <visual>
      <origin rpy="0 0 0" xyz="0 0 0"/>
      <geometry>
        <cylinder length="0.012" radius="0.012499999999999999"/>
      </geometry>
      <material name="finger2_mat">
        <color rgba="0.2 0.9 0.5 1.0"/>
      </material>
    </visual>
    <collision>
      <origin rpy="0 0 0" xyz="0 0 0"/>
      <geometry>
        <cylinder length="0.012" radius="0.012499999999999999"/>
      </geometry>
    </collision>
    <inertial>
      <origin rpy="0 0 0" xyz="0 0 0"/>
      <mass value="0.1"/>
      <inertia ixx="0.0001" ixy="0" ixz="0" iyy="0.0001" iyz="0" izz="0.0001"/>
    </inertial>
  </link>
  <!-- Revolute Joint (opens/closes) -->
  <joint name="finger2_level4_joint" type="revolute">
    <parent link="finger2_level3_disc"/>
    <child link="finger2_level4_link"/>
    <origin rpy="0 0 0" xyz="0 0 0"/>
    <axis xyz="0 1 0"/>
    <limit effort="50" lower="0" upper="0.2094" velocity="1.0"/>
    <mimic joint="finger1_level1_joint" multiplier="1.0" offset="0.0"/>
    <dynamics damping="0.1" friction="0.0"/>
  </joint>
  <link name="finger2_level4_link">
    <inertial>
      <origin rpy="0 0 0" xyz="0 0 0"/>
      <mass value="0.01"/>
      <inertia ixx="0.00001" ixy="0" ixz="0" iyy="0.00001" iyz="0" izz="0.00001"/>
    </inertial>
  </link>
  <!-- Fixed H distance to disc -->
  <joint name="finger2_level4_fixed" type="fixed">
    <parent link="finger2_level4_link"/>
    <child link="finger2_level4_disc"/>
    <origin rpy="0 0 0" xyz="0 0 0.022"/>
  </joint>
  <!-- Disc -->
  <link name="finger2_level4_disc">
    <visual>
      <origin rpy="0 0 0" xyz="0 0 0"/>
      <geometry>
        <cylinder length="0.012" radius="0.01125"/>
      </geometry>
      <material name="finger2_mat">
        <color rgba="0.2 0.9 0.5 1.0"/>
      </material>
    </visual>
    <collision>
      <origin rpy="0 0 0" xyz="0 0 0"/>
      <geometry>
        <cylinder length="0.012" radius="0.01125"/>
      </geometry>
    </collision>
    <inertial>
      <origin rpy="0 0 0" xyz="0 0 0"/>
      <mass value="0.1"/>
      <inertia ixx="0.0001" ixy="0" ixz="0" iyy="0.0001" iyz="0" izz="0.0001"/>
    </inertial>
  </link>
  <!-- Revolute Joint (opens/closes) -->
  <joint name="finger2_level5_joint" type="revolute">
    <parent link="finger2_level4_disc"/>
    <child link="finger2_level5_link"/>
    <origin rpy="0 0 0" xyz="0 0 0"/>
    <axis xyz="0 1 0"/>
    <limit effort="50" lower="0" upper="0.2094" velocity="1.0"/>
    <mimic joint="finger1_level1_joint" multiplier="1.0" offset="0.0"/>
    <dynamics damping="0.1" friction="0.0"/>
  </joint>
  <link name="finger2_level5_link">
    <inertial>
      <origin rpy="0 0 0" xyz="0 0 0"/>
      <mass value="0.01"/>
      <inertia ixx="0.00001" ixy="0" ixz="0" iyy="0.00001" iyz="0" izz="0.00001"/>
    </inertial>
  </link>
  <!-- Fixed H distance to disc -->
  <joint name="finger2_level5_fixed" type="fixed">
    <parent link="finger2_level5_link"/>
    <child link="finger2_level5_disc"/>
    <origin rpy="0 0 0" xyz="0 0 0.022"/>
  </joint>
  <!-- Disc -->
  <link name="finger2_level5_disc">
    <visual>
      <origin rpy="0 0 0" xyz="0 0 0"/>
      <geometry>
        <cylinder length="0.012" radius="0.009999999999999998"/>
      </geometry>
      <material name="finger2_mat">
        <color rgba="0.2 0.9 0.5 1.0"/>
      </material>
    </visual>
    <collision>
      <origin rpy="0 0 0" xyz="0 0 0"/>
      <geometry>
        <cylinder length="0.012" radius="0.009999999999999998"/>
      </geometry>
    </collision>
    <inertial>
      <origin rpy="0 0 0" xyz="0 0 0"/>
      <mass value="0.1"/>
      <inertia ixx="0.0001" ixy="0" ixz="0" iyy="0.0001" iyz="0" izz="0.0001"/>
    </inertial>
  </link>
  <!-- Revolute Joint (opens/closes) -->
  <joint name="finger2_level6_joint" type="revolute">
    <parent link="finger2_level5_disc"/>
    <child link="finger2_level6_link"/>
    <origin rpy="0 0 0" xyz="0 0 0"/>
    <axis xyz="0 1 0"/>
    <limit effort="50" lower="0" upper="0.2094" velocity="1.0"/>
    <mimic joint="finger1_level1_joint" multiplier="1.0" offset="0.0"/>
    <dynamics damping="0.1" friction="0.0"/>
  </joint>
  <link name="finger2_level6_link">
    <inertial>
      <origin rpy="0 0 0" xyz="0 0 0"/>
      <mass value="0.01"/>
      <inertia ixx="0.00001" ixy="0" ixz="0" iyy="0.00001" iyz="0" izz="0.00001"/>
    </inertial>
  </link>
  <!-- Fixed H distance to disc -->
  <joint name="finger2_level6_fixed" type="fixed">
    <parent link="finger2_level6_link"/>
    <child link="finger2_level6_disc"/>
    <origin rpy="0 0 0" xyz="0 0 0.022"/>
  </joint>
  <!-- Disc -->
  <link name="finger2_level6_disc">
    <visual>
      <origin rpy="0 0 0" xyz="0 0 0"/>
      <geometry>
        <cylinder length="0.012" radius="0.00875"/>
      </geometry>
      <material name="finger2_mat">
        <color rgba="0.2 0.9 0.5 1.0"/>
      </material>
    </visual>
    <collision>
      <origin rpy="0 0 0" xyz="0 0 0"/>
      <geometry>
        <cylinder length="0.012" radius="0.00875"/>
      </geometry>
    </collision>
    <inertial>
      <origin rpy="0 0 0" xyz="0 0 0"/>
      <mass value="0.1"/>
      <inertia ixx="0.0001" ixy="0" ixz="0" iyy="0.0001" iyz="0" izz="0.0001"/>
    </inertial>
  </link>
  <!-- Revolute Joint (opens/closes) -->
  <joint name="finger2_level7_joint" type="revolute">
    <parent link="finger2_level6_disc"/>
    <child link="finger2_level7_link"/>
    <origin rpy="0 0 0" xyz="0 0 0"/>
    <axis xyz="0 1 0"/>
    <limit effort="50" lower="0" upper="0.2094" velocity="1.0"/>
    <mimic joint="finger1_level1_joint" multiplier="1.0" offset="0.0"/>
    <dynamics damping="0.1" friction="0.0"/>
  </joint>
  <link name="finger2_level7_link">
    <inertial>
      <origin rpy="0 0 0" xyz="0 0 0"/>
      <mass value="0.01"/>
      <inertia ixx="0.00001" ixy="0" ixz="0" iyy="0.00001" iyz="0" izz="0.00001"/>
    </inertial>
  </link>
  <!-- Fixed H distance to disc -->
  <joint name="finger2_level7_fixed" type="fixed">
    <parent link="finger2_level7_link"/>
    <child link="finger2_level7_disc"/>
    <origin rpy="0 0 0" xyz="0 0 0.022"/>
  </joint>
  <!-- Disc -->
  <link name="finger2_level7_disc">
    <visual>
      <origin rpy="0 0 0" xyz="0 0 0"/>
      <geometry>
        <cylinder length="0.012" radius="0.0075"/>
      </geometry>
      <material name="finger2_mat">
        <color rgba="0.2 0.9 0.5 1.0"/>
      </material>
    </visual>
    <collision>
      <origin rpy="0 0 0" xyz="0 0 0"/>
      <geometry>
        <cylinder length="0.012" radius="0.0075"/>
      </geometry>
    </collision>
    <inertial>
      <origin rpy="0 0 0" xyz="0 0 0"/>
      <mass value="0.1"/>
      <inertia ixx="0.0001" ixy="0" ixz="0" iyy="0.0001" iyz="0" izz="0.0001"/>
    </inertial>
  </link>
  <!-- ===== FINGER 3 (at 240°) ===== -->
  <joint name="finger3_mount" type="fixed">
    <parent link="gripper_base"/>
    <child link="finger3_base"/>
    <origin rpy="0 0 4.1888" xyz="-0.010999813375588245 -0.01905266662969333 0"/>
  </joint>
  <link name="finger3_base">
    <inertial>
      <mass value="0.01"/>
      <inertia ixx="0.00001" ixy="0" ixz="0" iyy="0.00001" iyz="0" izz="0.00001"/>
    </inertial>
  </link>
  <!-- Revolute Joint (opens/closes) -->
  <joint name="finger3_level1_joint" type="revolute">
    <parent link="finger3_base"/>
    <child link="finger3_level1_link"/>
    <origin rpy="0 0 0" xyz="0 0 0"/>
    <axis xyz="0 1 0"/>
    <limit effort="50" lower="0" upper="0.2094" velocity="1.0"/>
    <mimic joint="finger1_level1_joint" multiplier="1.0" offset="0.0"/>
    <dynamics damping="0.1" friction="0.0"/>
  </joint>
  <link name="finger3_level1_link">
    <inertial>
      <origin rpy="0 0 0" xyz="0 0 0"/>
      <mass value="0.01"/>
      <inertia ixx="0.00001" ixy="0" ixz="0" iyy="0.00001" iyz="0" izz="0.00001"/>
    </inertial>
  </link>
  <!-- Fixed H distance to disc -->
  <joint name="finger3_level1_fixed" type="fixed">
    <parent link="finger3_level1_link"/>
    <child link="finger3_level1_disc"/>
    <origin rpy="0 0 0" xyz="0 0 0.022"/>
  </joint>
  <!-- Disc -->
  <link name="finger3_level1_disc">
    <visual>
      <origin rpy="0 0 0" xyz="0 0 0"/>
      <geometry>
        <cylinder length="0.012" radius="0.015"/>
      </geometry>
      <material name="finger3_mat">
        <color rgba="0.2 0.9 0.5 1.0"/>
      </material>
    </visual>
    <collision>
      <origin rpy="0 0 0" xyz="0 0 0"/>
      <geometry>
        <cylinder length="0.012" radius="0.015"/>
      </geometry>
    </collision>
    <inertial>
      <origin rpy="0 0 0" xyz="0 0 0"/>
      <mass value="0.1"/>
      <inertia ixx="0.0001" ixy="0" ixz="0" iyy="0.0001" iyz="0" izz="0.0001"/>
    </inertial>
  </link>
  <!-- Revolute Joint (opens/closes) -->
  <joint name="finger3_level2_joint" type="revolute">
    <parent link="finger3_level1_disc"/>
    <child link="finger3_level2_link"/>
    <origin rpy="0 0 0" xyz="0 0 0"/>
    <axis xyz="0 1 0"/>
    <limit effort="50" lower="0" upper="0.2094" velocity="1.0"/>
    <mimic joint="finger1_level1_joint" multiplier="1.0" offset="0.0"/>
    <dynamics damping="0.1" friction="0.0"/>
  </joint>
  <link name="finger3_level2_link">
    <inertial>
      <origin rpy="0 0 0" xyz="0 0 0"/>
      <mass value="0.01"/>
      <inertia ixx="0.00001" ixy="0" ixz="0" iyy="0.00001" iyz="0" izz="0.00001"/>
    </inertial>
  </link>
  <!-- Fixed H distance to disc -->
  <joint name="finger3_level2_fixed" type="fixed">
    <parent link="finger3_level2_link"/>
    <child link="finger3_level2_disc"/>
    <origin rpy="0 0 0" xyz="0 0 0.022"/>
  </joint>
  <!-- Disc -->
  <link name="finger3_level2_disc">
    <visual>
      <origin rpy="0 0 0" xyz="0 0 0"/>
      <geometry>
        <cylinder length="0.012" radius="0.01375"/>
      </geometry>
      <material name="finger3_mat">
        <color rgba="0.2 0.9 0.5 1.0"/>
      </material>
    </visual>
    <collision>
      <origin rpy="0 0 0" xyz="0 0 0"/>
      <geometry>
        <cylinder length="0.012" radius="0.01375"/>
      </geometry>
    </collision>
    <inertial>
      <origin rpy="0 0 0" xyz="0 0 0"/>
      <mass value="0.1"/>
      <inertia ixx="0.0001" ixy="0" ixz="0" iyy="0.0001" iyz="0" izz="0.0001"/>
    </inertial>
  </link>
  <!-- Revolute Joint (opens/closes) -->
  <joint name="finger3_level3_joint" type="revolute">
    <parent link="finger3_level2_disc"/>
    <child link="finger3_level3_link"/>
    <origin rpy="0 0 0" xyz="0 0 0"/>
    <axis xyz="0 1 0"/>
    <limit effort="50" lower="0" upper="0.2094" velocity="1.0"/>
    <mimic joint="finger1_level1_joint" multiplier="1.0" offset="0.0"/>
    <dynamics damping="0.1" friction="0.0"/>
  </joint>
  <link name="finger3_level3_link">
    <inertial>
      <origin rpy="0 0 0" xyz="0 0 0"/>
      <mass value="0.01"/>
      <inertia ixx="0.00001" ixy="0" ixz="0" iyy="0.00001" iyz="0" izz="0.00001"/>
    </inertial>
  </link>
  <!-- Fixed H distance to disc -->
  <joint name="finger3_level3_fixed" type="fixed">
    <parent link="finger3_level3_link"/>
    <child link="finger3_level3_disc"/>
    <origin rpy="0 0 0" xyz="0 0 0.022"/>
  </joint>
  <!-- Disc -->
  <link name="finger3_level3_disc">
    <visual>
      <origin rpy="0 0 0" xyz="0 0 0"/>
      <geometry>
        <cylinder length="0.012" radius="0.012499999999999999"/>
      </geometry>
      <material name="finger3_mat">
        <color rgba="0.2 0.9 0.5 1.0"/>
      </material>
    </visual>
    <collision>
      <origin rpy="0 0 0" xyz="0 0 0"/>
      <geometry>
        <cylinder length="0.012" radius="0.012499999999999999"/>
      </geometry>
    </collision>
    <inertial>
      <origin rpy="0 0 0" xyz="0 0 0"/>
      <mass value="0.1"/>
      <inertia ixx="0.0001" ixy="0" ixz="0" iyy="0.0001" iyz="0" izz="0.0001"/>
    </inertial>
  </link>
  <!-- Revolute Joint (opens/closes) -->
  <joint name="finger3_level4_joint" type="revolute">
    <parent link="finger3_level3_disc"/>
    <child link="finger3_level4_link"/>
    <origin rpy="0 0 0" xyz="0 0 0"/>
    <axis xyz="0 1 0"/>
    <limit effort="50" lower="0" upper="0.2094" velocity="1.0"/>
    <mimic joint="finger1_level1_joint" multiplier="1.0" offset="0.0"/>
    <dynamics damping="0.1" friction="0.0"/>
  </joint>
  <link name="finger3_level4_link">
    <inertial>
      <origin rpy="0 0 0" xyz="0 0 0"/>
      <mass value="0.01"/>
      <inertia ixx="0.00001" ixy="0" ixz="0" iyy="0.00001" iyz="0" izz="0.00001"/>
    </inertial>
  </link>
  <!-- Fixed H distance to disc -->
  <joint name="finger3_level4_fixed" type="fixed">
    <parent link="finger3_level4_link"/>
    <child link="finger3_level4_disc"/>
    <origin rpy="0 0 0" xyz="0 0 0.022"/>
  </joint>
  <!-- Disc -->
  <link name="finger3_level4_disc">
    <visual>
      <origin rpy="0 0 0" xyz="0 0 0"/>
      <geometry>
        <cylinder length="0.012" radius="0.01125"/>
      </geometry>
      <material name="finger3_mat">
        <color rgba="0.2 0.9 0.5 1.0"/>
      </material>
    </visual>
    <collision>
      <origin rpy="0 0 0" xyz="0 0 0"/>
      <geometry>
        <cylinder length="0.012" radius="0.01125"/>
      </geometry>
    </collision>
    <inertial>
      <origin rpy="0 0 0" xyz="0 0 0"/>
      <mass value="0.1"/>
      <inertia ixx="0.0001" ixy="0" ixz="0" iyy="0.0001" iyz="0" izz="0.0001"/>
    </inertial>
  </link>
  <!-- Revolute Joint (opens/closes) -->
  <joint name="finger3_level5_joint" type="revolute">
    <parent link="finger3_level4_disc"/>
    <child link="finger3_level5_link"/>
    <origin rpy="0 0 0" xyz="0 0 0"/>
    <axis xyz="0 1 0"/>
    <limit effort="50" lower="0" upper="0.2094" velocity="1.0"/>
    <mimic joint="finger1_level1_joint" multiplier="1.0" offset="0.0"/>
    <dynamics damping="0.1" friction="0.0"/>
  </joint>
  <link name="finger3_level5_link">
    <inertial>
      <origin rpy="0 0 0" xyz="0 0 0"/>
      <mass value="0.01"/>
      <inertia ixx="0.00001" ixy="0" ixz="0" iyy="0.00001" iyz="0" izz="0.00001"/>
    </inertial>
  </link>
  <!-- Fixed H distance to disc -->
  <joint name="finger3_level5_fixed" type="fixed">
    <parent link="finger3_level5_link"/>
    <child link="finger3_level5_disc"/>
    <origin rpy="0 0 0" xyz="0 0 0.022"/>
  </joint>
  <!-- Disc -->
  <link name="finger3_level5_disc">
    <visual>
      <origin rpy="0 0 0" xyz="0 0 0"/>
      <geometry>
        <cylinder length="0.012" radius="0.009999999999999998"/>
      </geometry>
      <material name="finger3_mat">
        <color rgba="0.2 0.9 0.5 1.0"/>
      </material>
    </visual>
    <collision>
      <origin rpy="0 0 0" xyz="0 0 0"/>
      <geometry>
        <cylinder length="0.012" radius="0.009999999999999998"/>
      </geometry>
    </collision>
    <inertial>
      <origin rpy="0 0 0" xyz="0 0 0"/>
      <mass value="0.1"/>
      <inertia ixx="0.0001" ixy="0" ixz="0" iyy="0.0001" iyz="0" izz="0.0001"/>
    </inertial>
  </link>
  <!-- Revolute Joint (opens/closes) -->
  <joint name="finger3_level6_joint" type="revolute">
    <parent link="finger3_level5_disc"/>
    <child link="finger3_level6_link"/>
    <origin rpy="0 0 0" xyz="0 0 0"/>
    <axis xyz="0 1 0"/>
    <limit effort="50" lower="0" upper="0.2094" velocity="1.0"/>
    <mimic joint="finger1_level1_joint" multiplier="1.0" offset="0.0"/>
    <dynamics damping="0.1" friction="0.0"/>
  </joint>
  <link name="finger3_level6_link">
    <inertial>
      <origin rpy="0 0 0" xyz="0 0 0"/>
      <mass value="0.01"/>
      <inertia ixx="0.00001" ixy="0" ixz="0" iyy="0.00001" iyz="0" izz="0.00001"/>
    </inertial>
  </link>
  <!-- Fixed H distance to disc -->
  <joint name="finger3_level6_fixed" type="fixed">
    <parent link="finger3_level6_link"/>
    <child link="finger3_level6_disc"/>
    <origin rpy="0 0 0" xyz="0 0 0.022"/>
  </joint>
  <!-- Disc -->
  <link name="finger3_level6_disc">
    <visual>
      <origin rpy="0 0 0" xyz="0 0 0"/>
      <geometry>
        <cylinder length="0.012" radius="0.00875"/>
      </geometry>
      <material name="finger3_mat">
        <color rgba="0.2 0.9 0.5 1.0"/>
      </material>
    </visual>
    <collision>
      <origin rpy="0 0 0" xyz="0 0 0"/>
      <geometry>
        <cylinder length="0.012" radius="0.00875"/>
      </geometry>
    </collision>
    <inertial>
      <origin rpy="0 0 0" xyz="0 0 0"/>
      <mass value="0.1"/>
      <inertia ixx="0.0001" ixy="0" ixz="0" iyy="0.0001" iyz="0" izz="0.0001"/>
    </inertial>
  </link>
  <!-- Revolute Joint (opens/closes) -->
  <joint name="finger3_level7_joint" type="revolute">
    <parent link="finger3_level6_disc"/>
    <child link="finger3_level7_link"/>
    <origin rpy="0 0 0" xyz="0 0 0"/>
    <axis xyz="0 1 0"/>
    <limit effort="50" lower="0" upper="0.2094" velocity="1.0"/>
    <mimic joint="finger1_level1_joint" multiplier="1.0" offset="0.0"/>
    <dynamics damping="0.1" friction="0.0"/>
  </joint>
  <link name="finger3_level7_link">
    <inertial>
      <origin rpy="0 0 0" xyz="0 0 0"/>
      <mass value="0.01"/>
      <inertia ixx="0.00001" ixy="0" ixz="0" iyy="0.00001" iyz="0" izz="0.00001"/>
    </inertial>
  </link>
  <!-- Fixed H distance to disc -->
  <joint name="finger3_level7_fixed" type="fixed">
    <parent link="finger3_level7_link"/>
    <child link="finger3_level7_disc"/>
    <origin rpy="0 0 0" xyz="0 0 0.022"/>
  </joint>
  <!-- Disc -->
  <link name="finger3_level7_disc">
    <visual>
      <origin rpy="0 0 0" xyz="0 0 0"/>
      <geometry>
        <cylinder length="0.012" radius="0.0075"/>
      </geometry>
      <material name="finger3_mat">
        <color rgba="0.2 0.9 0.5 1.0"/>
      </material>
    </visual>
    <collision>
      <origin rpy="0 0 0" xyz="0 0 0"/>
      <geometry>
        <cylinder length="0.012" radius="0.0075"/>
      </geometry>
    </collision>
    <inertial>
      <origin rpy="0 0 0" xyz="0 0 0"/>
      <mass value="0.1"/>
      <inertia ixx="0.0001" ixy="0" ixz="0" iyy="0.0001" iyz="0" izz="0.0001"/>
    </inertial>
  </link>
</robot>
